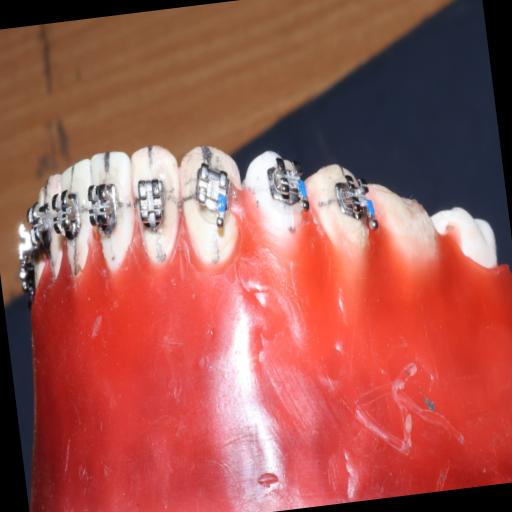correct_brace: (132, 168, 176, 237)
incorrect_brace: (124, 138, 192, 274), (186, 158, 240, 237)
